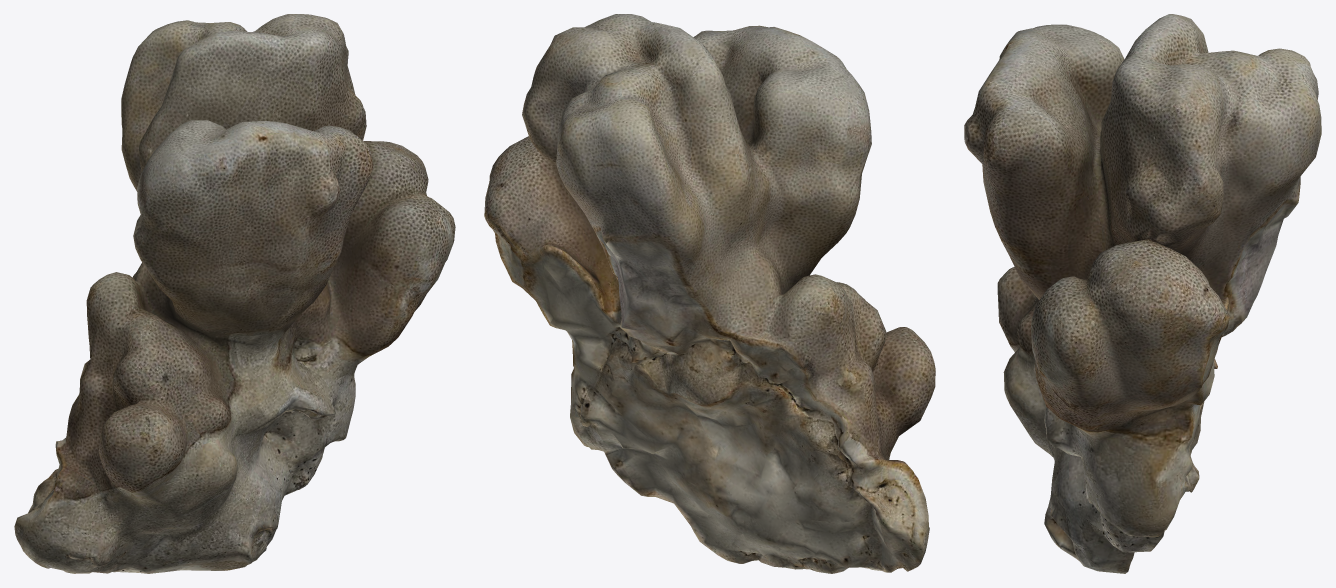
Rendered from coral-porites.glb.
3 renders of one model, left to right at view 1: azimuth 30°, elevation 25°; view 2: azimuth 150°, elevation 25°; view 3: azimuth 270°, elevation 25°, orthographic. The views are drawn at different scales.
Bounding box in the file's own units: 0.1572 × 0.1883 × 0.1078.
Materials: 1 (1 with a texture image).
